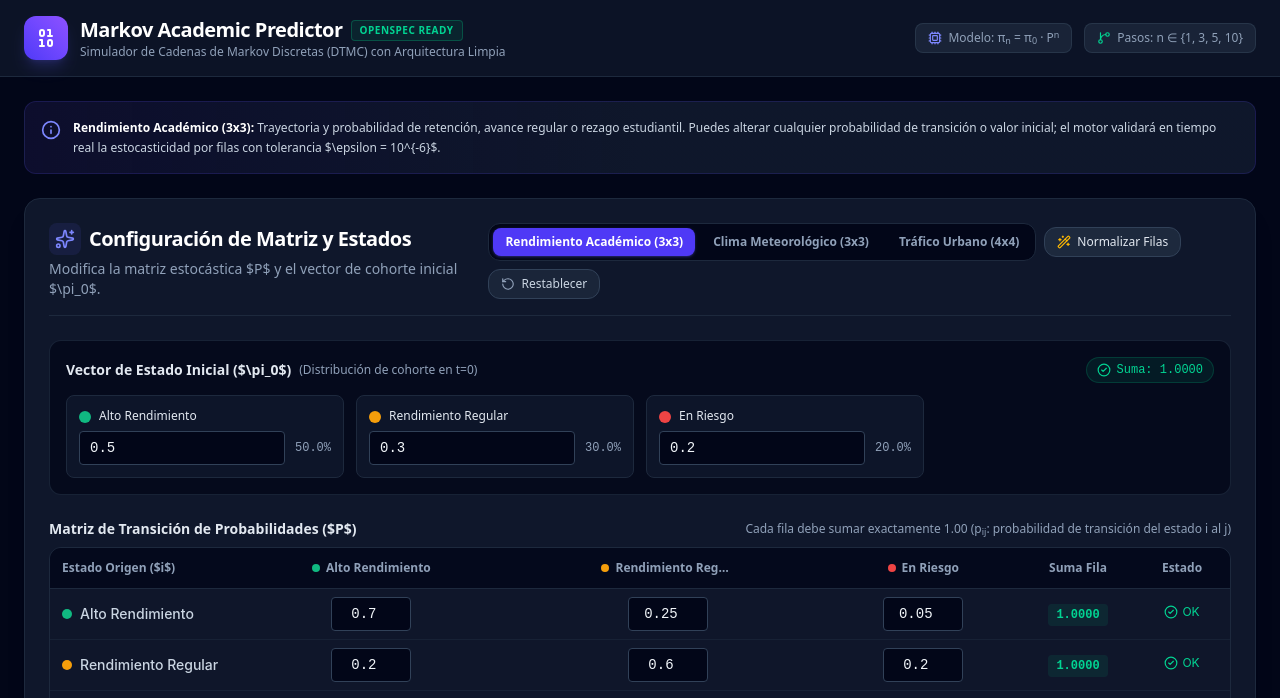
Test: App Integration Tests (OpenSpec UI & Engine) › El botón de Normalizar Filas reajusta la matriz para que sume 1.0 y elimina la alerta
Note: Descuadrar celda
Replace the text in the number field with test id "matrix-cell-0-0" with "0.20" at (371, 614), box [331,597,411,631]
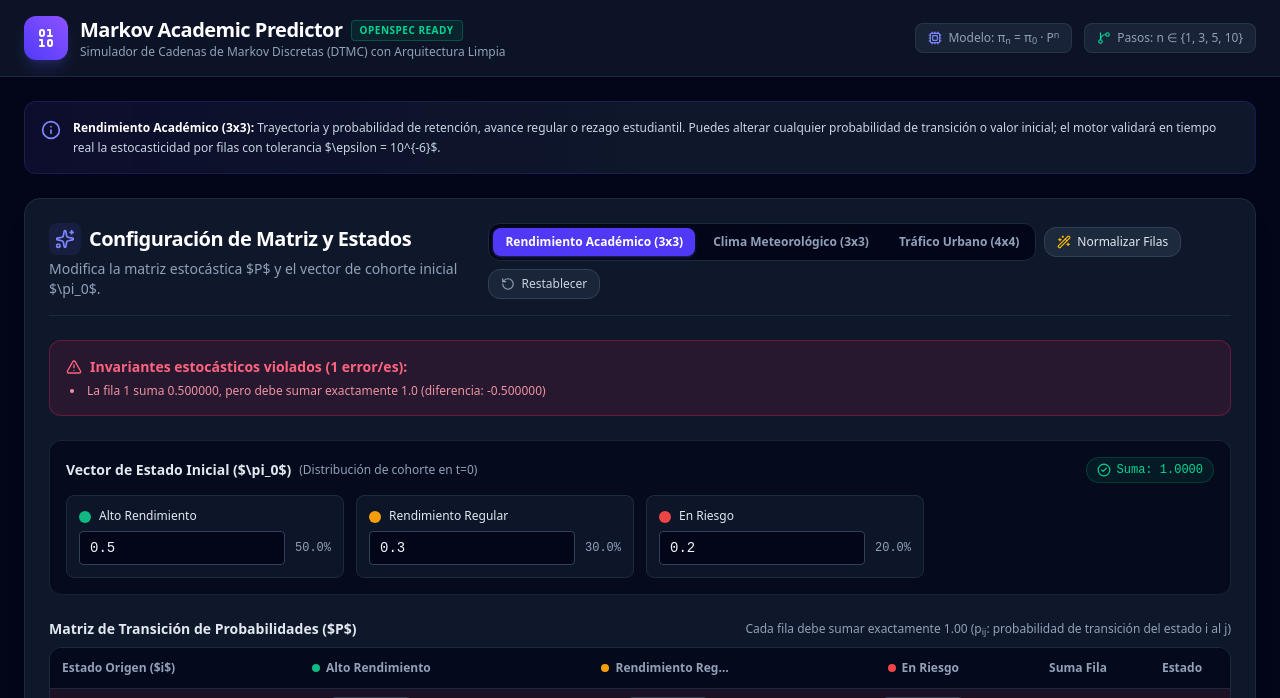
expect the element with test id "validation-alert" is shown: met, box [49,340,1231,416]
Note: Ejecutar normalización
Click the button with test id "normalize-btn" at (1113, 242), box [1044,227,1181,257]
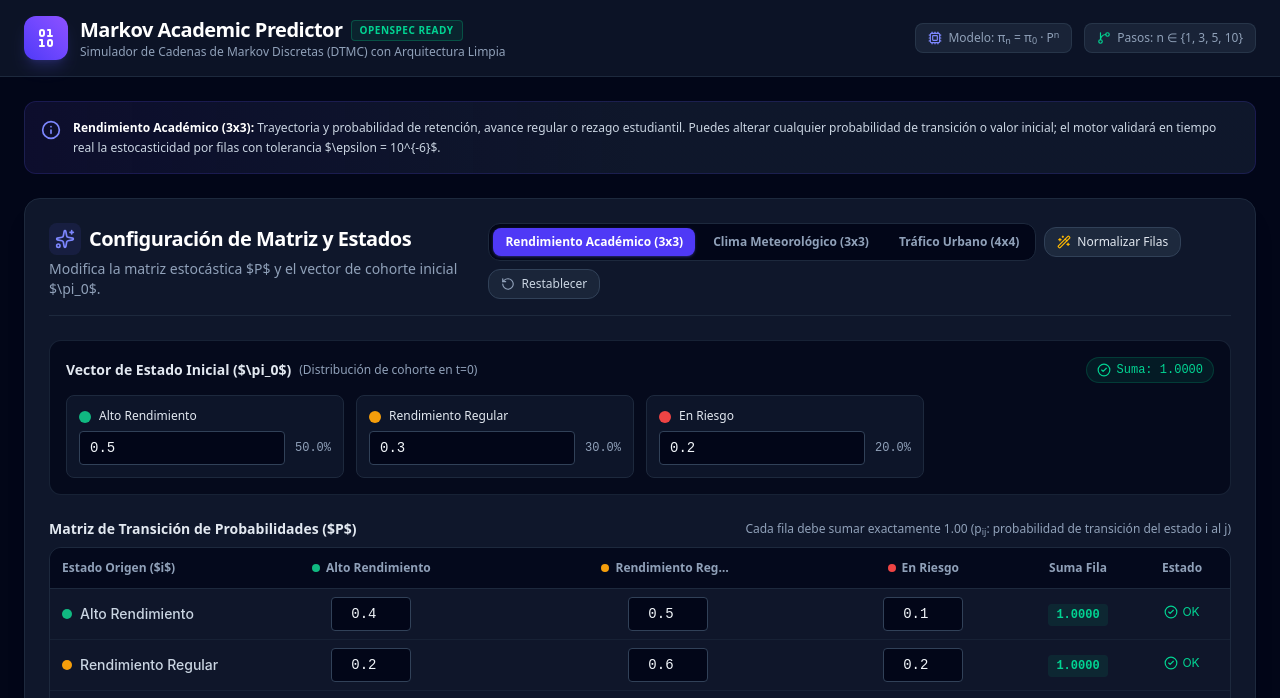
expect the element with test id "validation-alert" is gone: met
